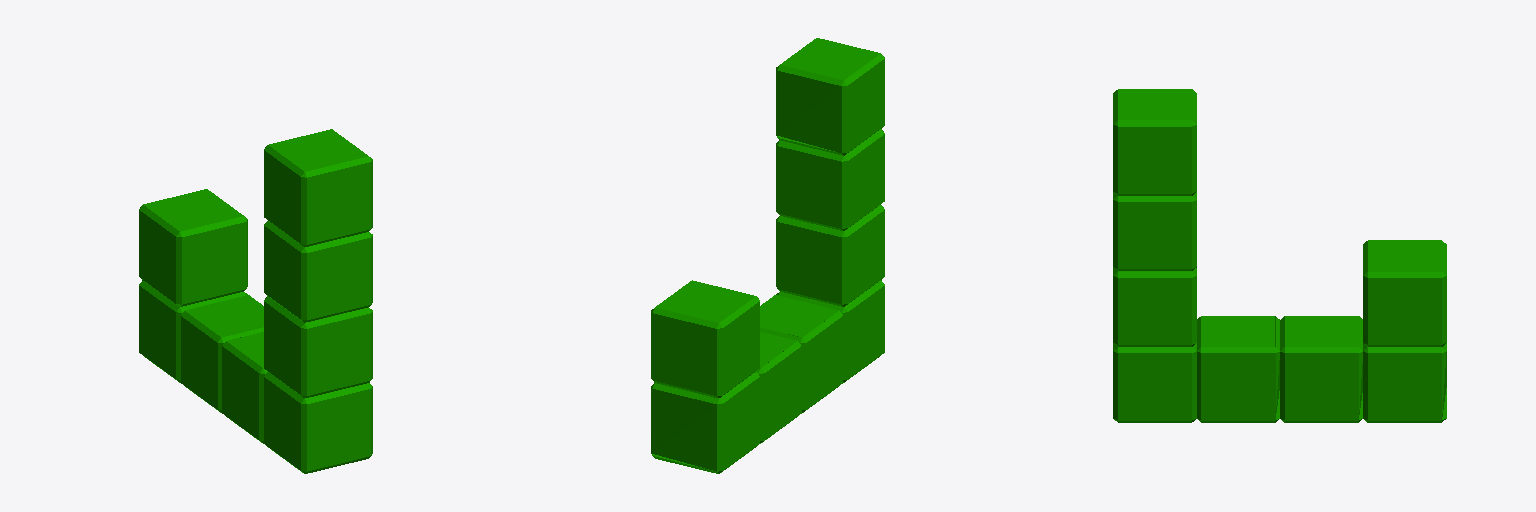
File: piece6.obj
3 views of the same model, side by side, from view 1: azimuth 30°, elevation 25°; view 2: azimuth 150°, elevation 25°; view 3: azimuth 270°, elevation 25° (orthographic).
Parts seen in each view (by area): view 1: Cube.006; view 2: Cube.006; view 3: Cube.006.
Boxes of the visible parts, <box> form: Cube.006: <box>139,129,372,473</box>; Cube.006: <box>651,38,884,473</box>; Cube.006: <box>1113,89,1446,422</box>.
Bounding box in the file's own units: 2 × 8.01 × 8.